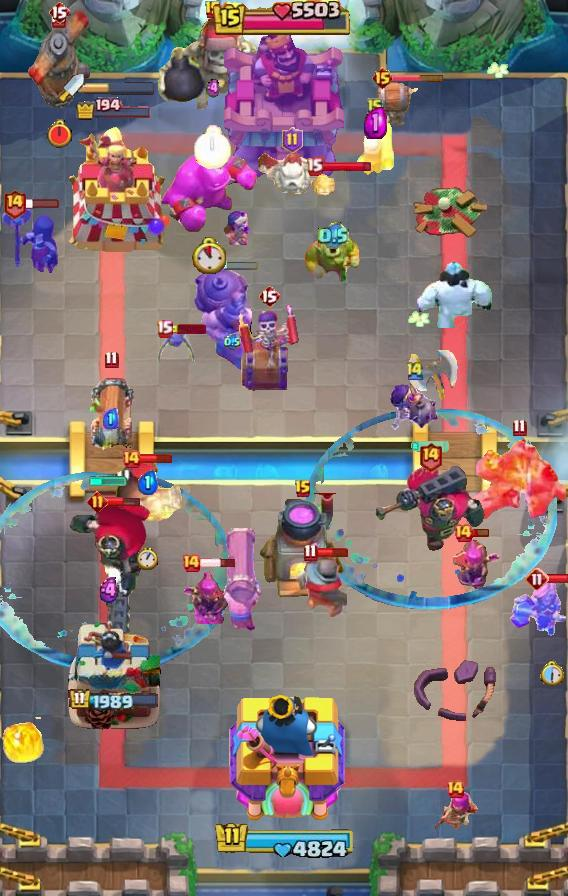bar: (55, 126, 173, 256)
barbarian: (156, 328, 196, 366)
battle-healer: (218, 528, 264, 632), (88, 372, 134, 454)
cannon: (431, 792, 479, 832)
cannoneer-tower: (460, 437, 568, 521)
clock: (210, 820, 358, 862), (213, 0, 355, 38)
clone: (160, 149, 258, 235)
dark-prince: (20, 0, 98, 112)
electro-giant: (154, 14, 272, 128)
electro-spirit: (319, 222, 349, 250), (365, 107, 388, 139), (98, 576, 122, 603), (137, 469, 158, 494), (103, 407, 119, 429), (206, 77, 220, 98), (224, 334, 240, 350)
elixir: (194, 125, 232, 169), (192, 237, 226, 274), (47, 119, 74, 149), (540, 660, 564, 687), (137, 546, 158, 570)
emote: (320, 160, 372, 173), (391, 74, 445, 83), (200, 557, 237, 569), (24, 197, 60, 209), (224, 260, 259, 272), (105, 497, 141, 508), (139, 453, 173, 464), (315, 546, 349, 557), (170, 324, 206, 334), (470, 526, 490, 538), (548, 572, 568, 583)
evolution-symbol: (181, 566, 233, 624), (452, 537, 502, 593)
firecracker: (291, 556, 347, 620)
flying-machine: (303, 230, 363, 284)
goblin: (225, 211, 251, 245)
goblin-ball: (388, 382, 442, 432)
hunter: (258, 493, 348, 601)
ice-spirit: (409, 441, 451, 453), (88, 474, 130, 486)
ice-spirit-evolution: (312, 168, 338, 196)
inferno-tower: (65, 498, 153, 644), (374, 464, 486, 552)
king-tower: (224, 29, 344, 181), (223, 689, 345, 826)
king-tower-bar: (84, 81, 156, 95)
knight: (371, 81, 423, 127)
mini-pekka: (255, 149, 329, 197)
pad_0: (303, 407, 557, 609), (0, 470, 236, 672)
phoenix-small: (110, 457, 184, 521)
queen-tower: (65, 617, 163, 731)
rage: (415, 262, 495, 328)
rascal-boy: (0, 204, 60, 278)
royal-giant: (407, 350, 459, 402)
selected: (68, 687, 160, 713), (75, 97, 153, 121)
skeleton-king-bar: (238, 302, 300, 394)
tesla-evolution: (508, 575, 568, 639)
text: (2, 189, 27, 220), (417, 441, 442, 472), (525, 567, 549, 591), (370, 66, 393, 90), (282, 127, 303, 153), (48, 0, 70, 24), (258, 284, 280, 308), (87, 491, 108, 513), (405, 359, 425, 380), (121, 449, 141, 469), (453, 523, 473, 543), (181, 553, 201, 573), (445, 779, 465, 799), (204, 0, 222, 20), (294, 479, 312, 499), (305, 157, 323, 175), (155, 318, 172, 337), (367, 97, 383, 117), (303, 542, 318, 561), (105, 351, 119, 370), (513, 419, 527, 438)
tombstone: (354, 119, 396, 177)
valkyrie: (0, 710, 50, 766)
wizard: (191, 262, 273, 376)
